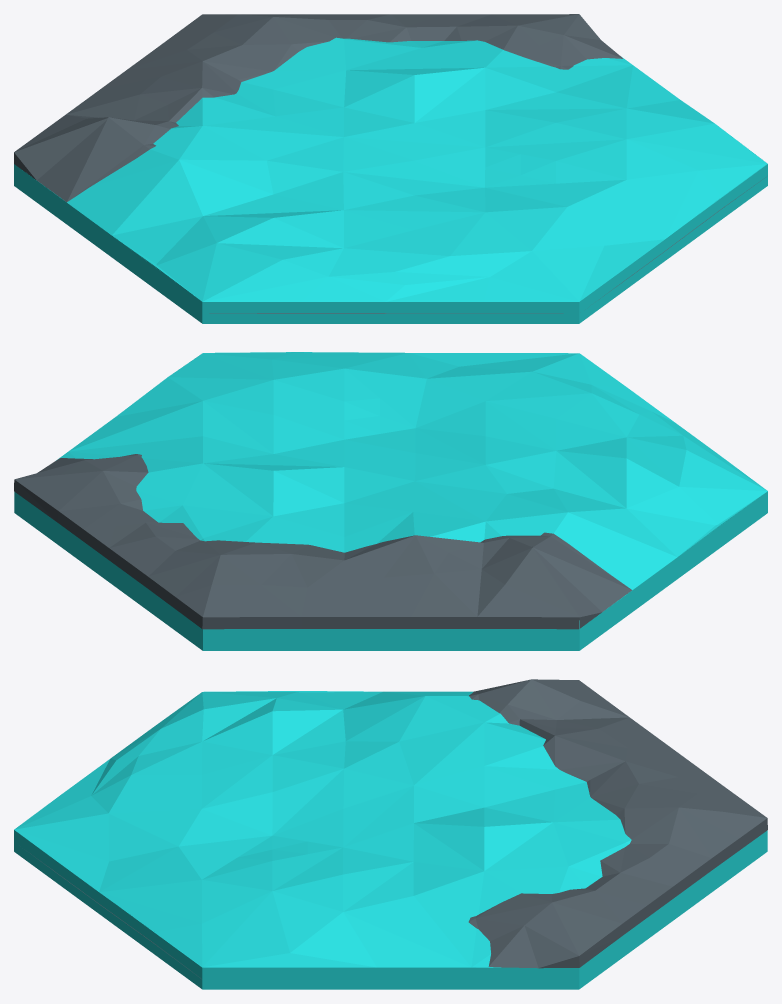
File: water.fbx
3 renders of one model, top to bottom at view 1: azimuth 30°, elevation 25°; view 2: azimuth 150°, elevation 25°; view 3: azimuth 270°, elevation 25°, orthographic.
Visible parts, largest first — view 1: Cylinder.029; view 2: Cylinder.029; view 3: Cylinder.029.
Boxes of the visible parts, x1,y1,x2,y2 form: Cylinder.029: (14, 14, 767, 323); Cylinder.029: (14, 352, 767, 650); Cylinder.029: (14, 679, 767, 989).
Size of the model in its own units: 174 by 20.73 by 200.
